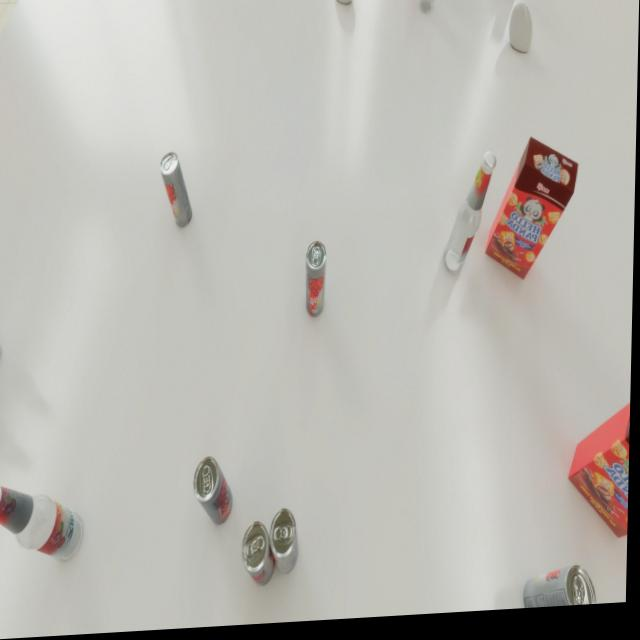Bottle: (0, 476, 88, 568), (444, 157, 498, 280)
HelloPanda: (486, 141, 580, 288)
Rita_zero_sugar: (527, 571, 601, 615), (195, 457, 236, 529), (160, 153, 194, 231), (244, 523, 278, 590), (272, 511, 302, 578), (306, 244, 328, 322)
Salt: (509, 8, 533, 59), (336, 0, 360, 7)
